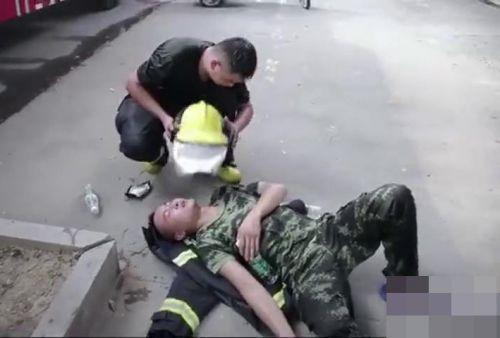Fall-Detected: (137, 163, 452, 338)
